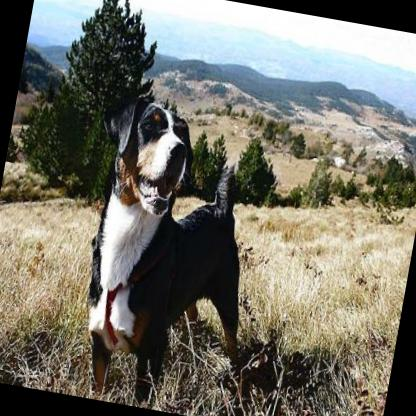Appenzeller: (50, 87, 280, 416)
